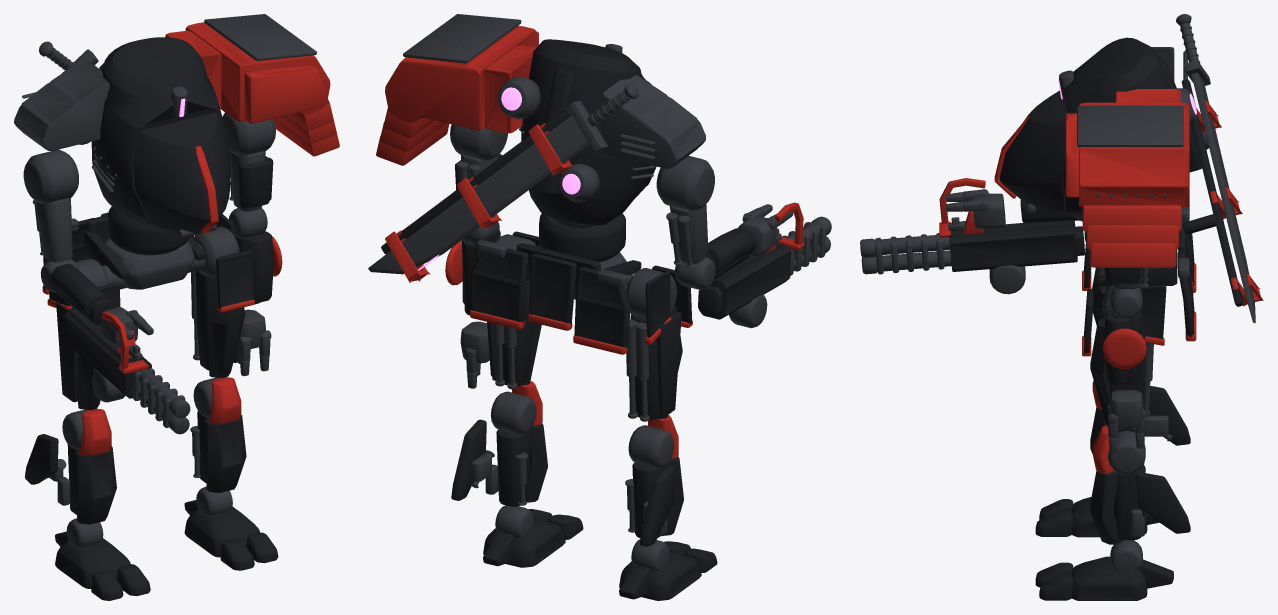
Rendered from Titan_L2.fbx.
3 views of the same model, side by side, from view 1: azimuth 30°, elevation 25°; view 2: azimuth 150°, elevation 25°; view 3: azimuth 270°, elevation 25° (orthographic). The views are drawn at different scales.
Parts seen in each view (by area): view 1: L2_Torso_Upper, L2_Hatch, L2_Pauldron_L, L2_Shoulder_Cap_R, L2_Pauldron_Trim_L, L2_Pelvis, L2_Shotgun_Body, L2_Shin_Plate_L, L2_Shin_Plate_R, L2_UpperArm_Hub_R, L2_Thigh_Plate_L, L2_Waist (+40 smaller); view 2: L2_Torso_Upper, L2_Skirt_Back, L2_Pauldron_L, L2_Sword_Blade, L2_Shoulder_Cap_R, L2_Shotgun_Body, L2_Pauldron_Trim_L, L2_Waist, L2_Rack_Clamps, L2_UpperArm_Hub_R, L2_Pauldron_Lames_L, L2_Phase_Gen (+44 smaller); view 3: L2_Pauldron_L, L2_Pauldron_Lames_L, L2_Hatch, L2_Shotgun_Body, L2_Torso_Upper, L2_Pauldron_Trim_L, L2_Foot_L, L2_Sword_Blade, L2_Shotgun_Barrels, L2_Rack, L2_Calf_Blade_L, L2_Shin_Plate_L (+27 smaller).
Part boxes in pixels (bbox=[...]): L2_Torso_Upper: bbox=[91, 37, 227, 229]; L2_Hatch: bbox=[133, 112, 230, 233]; L2_Pauldron_L: bbox=[165, 22, 330, 123]; L2_Shoulder_Cap_R: bbox=[14, 60, 109, 150]; L2_Pauldron_Trim_L: bbox=[204, 14, 316, 60]; L2_Pelvis: bbox=[102, 238, 205, 289]; L2_Shotgun_Body: bbox=[63, 308, 151, 398]; L2_Shin_Plate_L: bbox=[205, 415, 246, 492]; L2_Shin_Plate_R: bbox=[75, 446, 116, 524]; L2_UpperArm_Hub_R: bbox=[23, 149, 78, 204]; L2_Thigh_Plate_L: bbox=[206, 275, 245, 378]; L2_Waist: bbox=[108, 206, 190, 255]; L2_Torso_Upper: bbox=[521, 39, 656, 225]; L2_Skirt_Back: bbox=[471, 248, 630, 348]; L2_Pauldron_L: bbox=[385, 25, 538, 133]; L2_Sword_Blade: bbox=[368, 115, 589, 274]; L2_Shoulder_Cap_R: bbox=[602, 75, 705, 168]; L2_Shotgun_Body: bbox=[698, 243, 791, 319]; L2_Pauldron_Trim_L: bbox=[403, 14, 521, 63]; L2_Waist: bbox=[539, 213, 625, 262]; L2_Rack_Clamps: bbox=[385, 123, 572, 282]; L2_UpperArm_Hub_R: bbox=[656, 155, 714, 211]; L2_Pauldron_Lames_L: bbox=[376, 108, 449, 165]; L2_Phase_Gen: bbox=[497, 76, 599, 202]; L2_Pauldron_L: bbox=[1065, 89, 1189, 207]; L2_Pauldron_Lames_L: bbox=[1082, 205, 1181, 267]; L2_Hatch: bbox=[999, 90, 1067, 211]; L2_Shotgun_Body: bbox=[949, 221, 1084, 271]; L2_Torso_Upper: bbox=[1063, 37, 1171, 221]; L2_Pauldron_Trim_L: bbox=[1077, 105, 1183, 146]; L2_Foot_L: bbox=[1071, 556, 1147, 600]; L2_Sword_Blade: bbox=[1191, 72, 1255, 322]; L2_Shotgun_Barrels: bbox=[860, 234, 951, 274]; L2_Rack: bbox=[1181, 79, 1243, 306]; L2_Calf_Blade_L: bbox=[1136, 472, 1190, 533]; L2_Shin_Plate_L: bbox=[1090, 470, 1122, 544].
Size of the model in its own units: 3.56 by 5.87 by 4.24.
